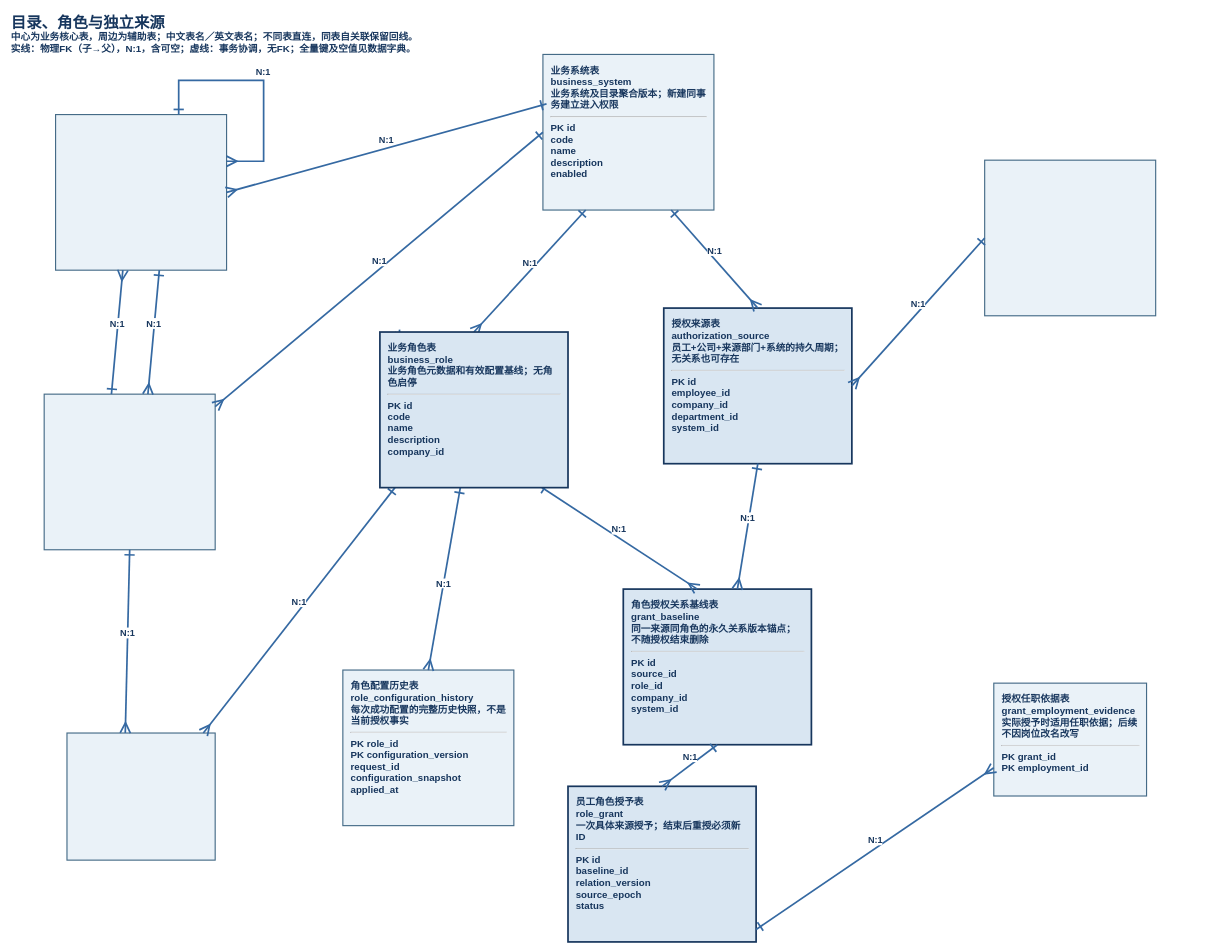
This 1216x952 diagram has some shape labels left out. The centre of each missing label's shape, as x and y in pixels:
员工表 employee 统一员工身份；全局停用独立于后台账号 PK id employee_key name status version: [1070,237]
权限项表 permission 独立功能操作或唯一系统进入权限；不含数据权限 PK id system_id code name permission_type: [129,471]
目录节点表 directory_node 同系统导航/功能树；操作不作为树节点 PK id system_id code name node_type: [141,192]
角色权限关联表 role_permission 当前有效角色配置集合；关系只表示授予 PK role_id PK permission_id system_id: [140,796]
